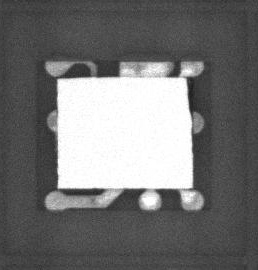DIE_BROKEN: (185, 77, 193, 155)
